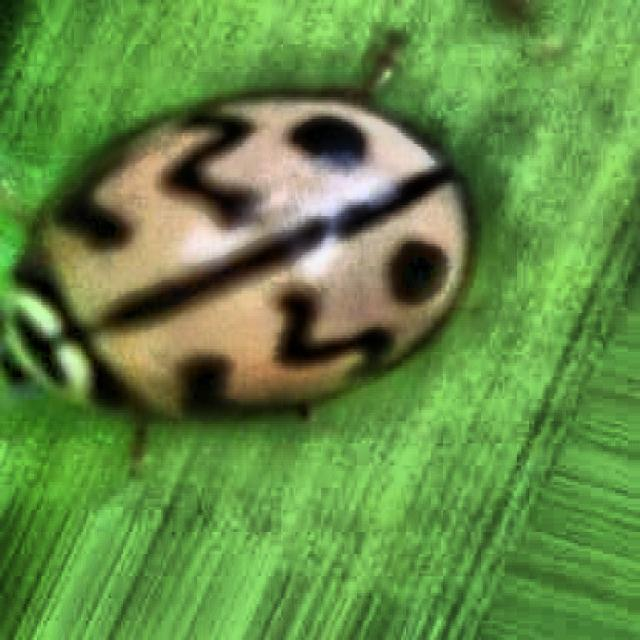Asian-Lady-beetle: (5, 25, 541, 519)
